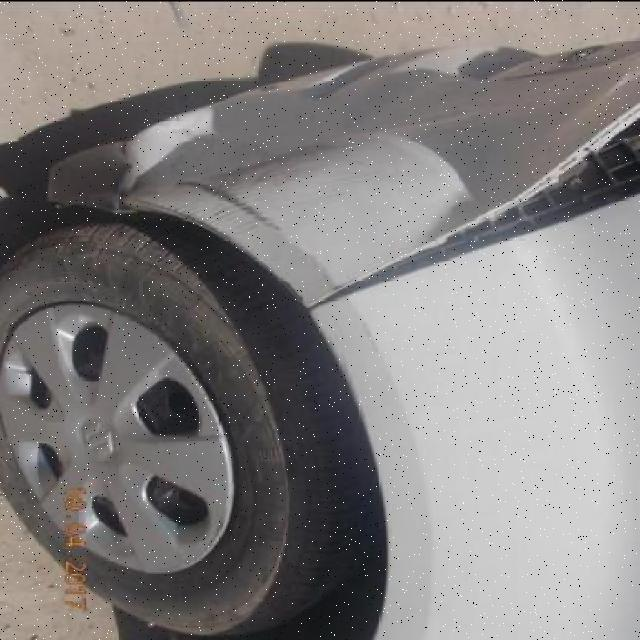damage: (313, 104, 638, 306), (129, 95, 359, 194), (201, 183, 290, 234)
